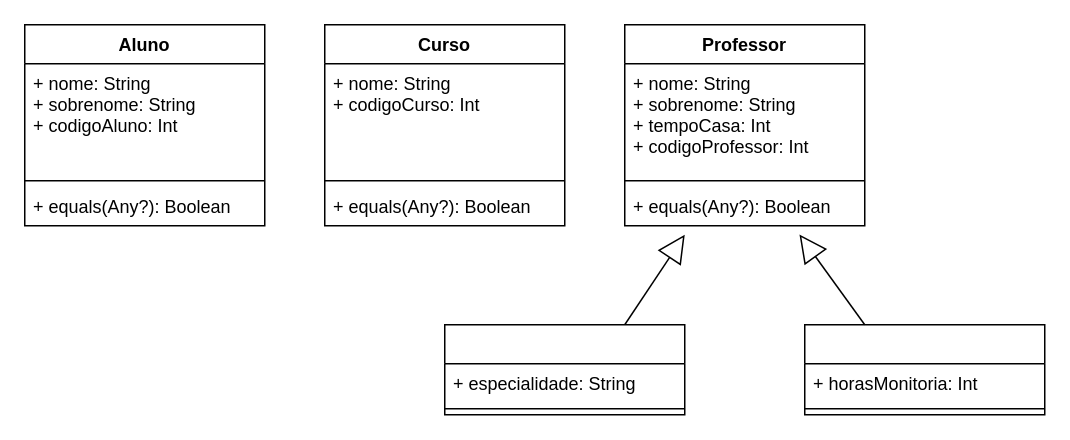
Image size: 1070x440. Some labels were removed from this diagram. The box of each missing label's shape, as (x1, y1, x2, y2) in pixels:
ProfessorAdjunto: (803, 323, 1045, 415)
ProfessorTitular: (443, 323, 685, 415)
